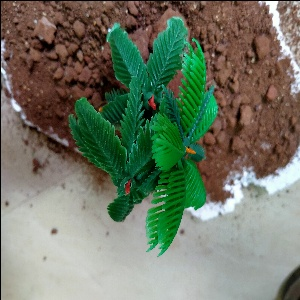plant: (64, 16, 210, 281)
